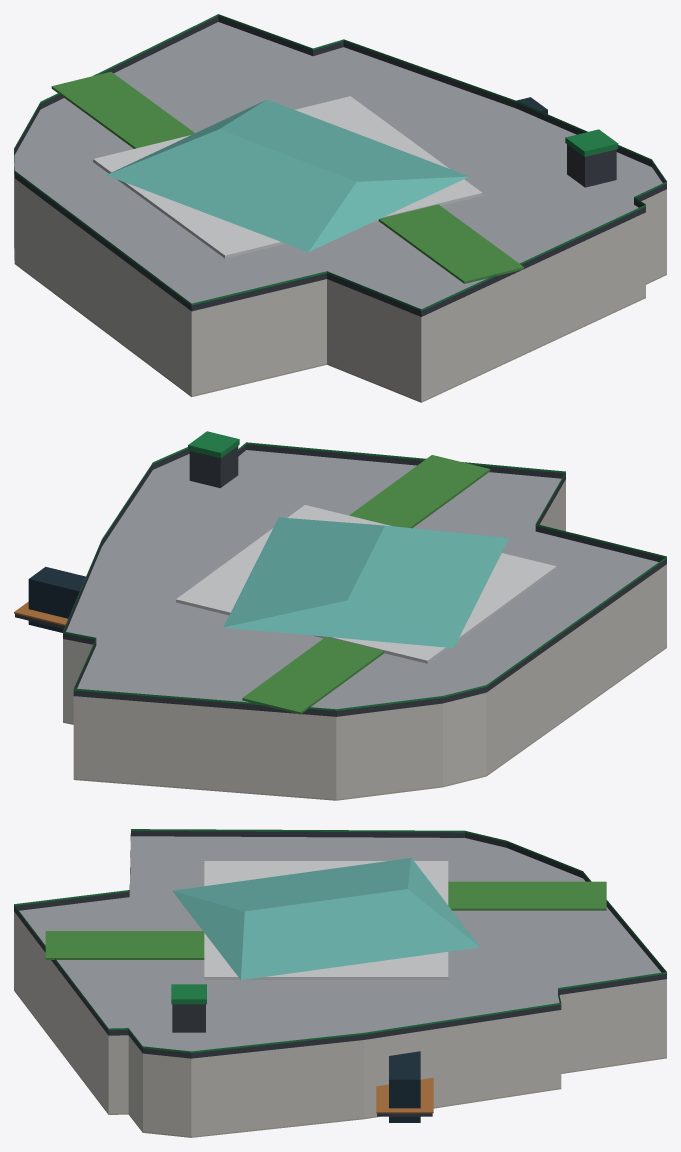
The model's file is living-world-lod2.glb.
3 renders of one model, top to bottom at view 1: azimuth 30°, elevation 25°; view 2: azimuth 150°, elevation 25°; view 3: azimuth 270°, elevation 25°, orthographic. The views are drawn at different scales.
Parts seen in each view (by area): view 1: living-world_LOD2; view 2: living-world_LOD2; view 3: living-world_LOD2.
Boxes of the visible parts, x1,y1,x2,y2 form: living-world_LOD2: (14,14,666,402); living-world_LOD2: (14,431,666,800); living-world_LOD2: (14,829,666,1137).
Size of the model in its own units: 135 by 32.9 by 164.
